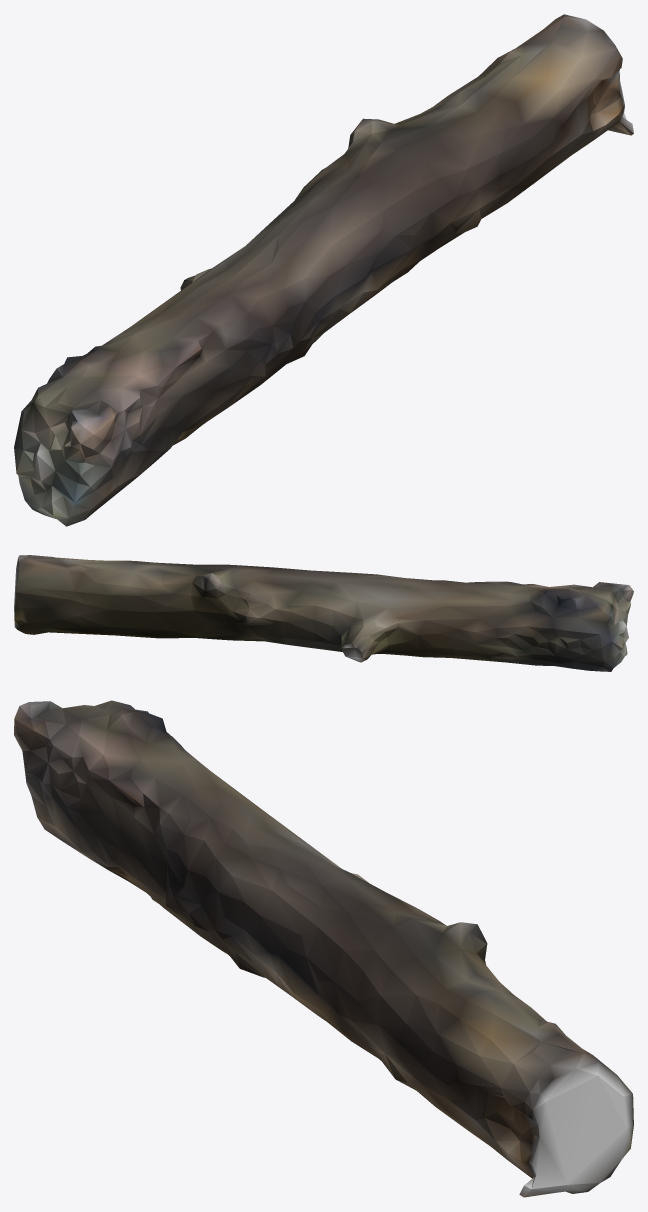
The model's file is log.glb.
3 views of the same model, one above another, from view 1: azimuth 30°, elevation 25°; view 2: azimuth 150°, elevation 25°; view 3: azimuth 270°, elevation 25° (orthographic). The views are drawn at different scales.
Parts seen in each view (by area): view 1: log-convcol; view 2: log-convcol; view 3: log-convcol.
Boxes of the visible parts, x1,y1,x2,y2 form: log-convcol: [14, 14, 633, 526]; log-convcol: [14, 555, 633, 671]; log-convcol: [14, 700, 633, 1197].
Size of the model in its own units: 3.16 by 0.62 by 1.88.
